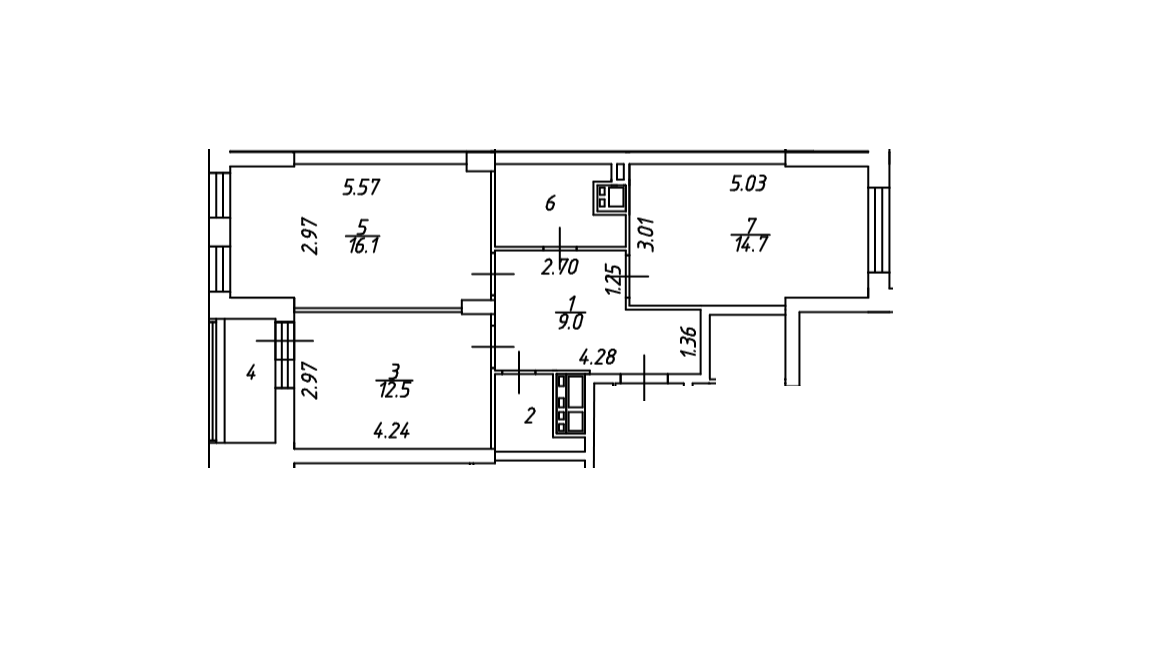balcony_door: (252, 319, 316, 359)
balcony_wall: (204, 314, 229, 448)
door: (619, 352, 668, 401), (468, 250, 517, 298), (536, 223, 585, 271), (470, 323, 514, 369), (605, 254, 651, 296), (501, 350, 535, 395)
vent_channel: (553, 369, 587, 410), (594, 181, 629, 215), (554, 409, 588, 435)
window: (865, 184, 893, 276), (205, 169, 234, 222), (204, 242, 233, 295), (270, 355, 298, 391)
